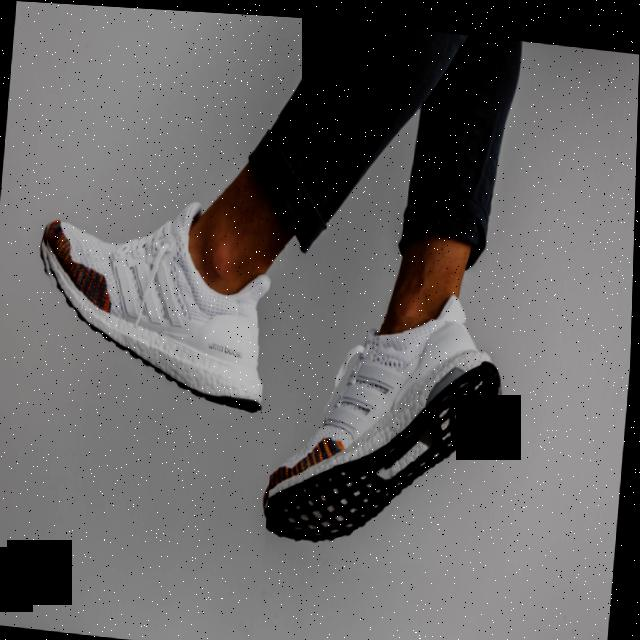shoe: (265, 299, 512, 586), (32, 175, 305, 424)
